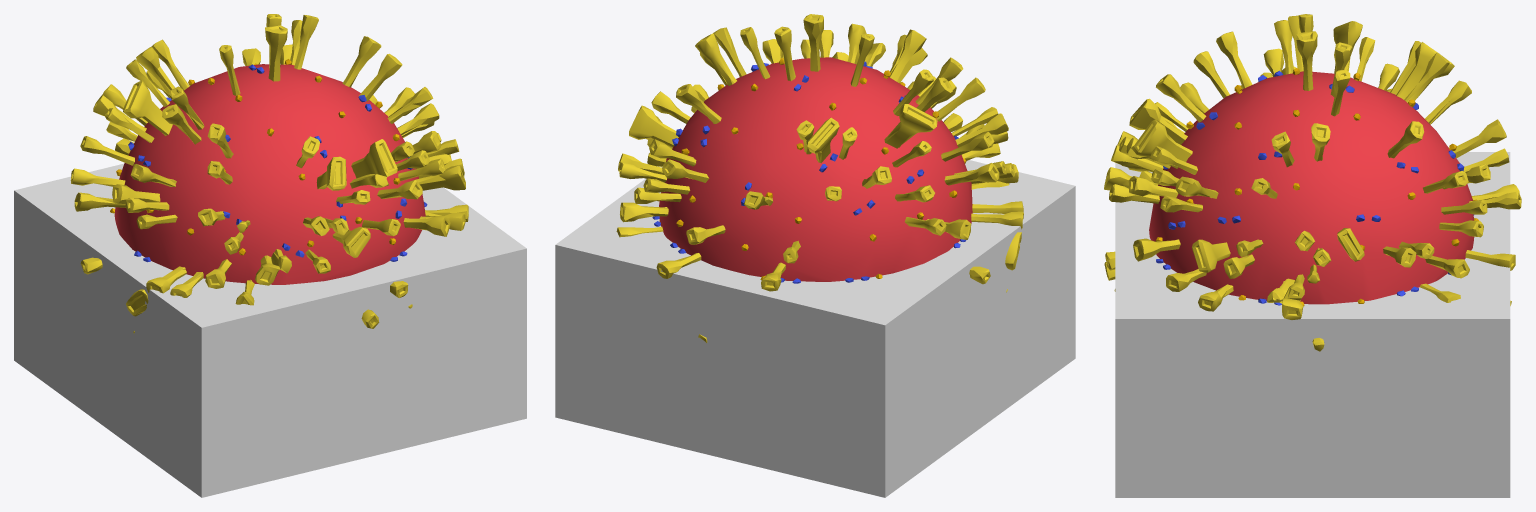
File: Joined-triangulated.fbx
The picture shows the model from 3 angles, left to right: view 1: azimuth 30°, elevation 25°; view 2: azimuth 150°, elevation 25°; view 3: azimuth 270°, elevation 25°; orthographic projection. The views are drawn at different scales.
Visible parts, largest first — view 1: Cube.002, Spike left.001, Spike right.001; view 2: Cube.002, Spike left.001, Spike right.001; view 3: Cube.002, Spike left.001.
Boxes of the visible parts, box(x1,y1,x2,y2) form: Cube.002: box(14, 163, 526, 497); Spike left.001: box(70, 14, 468, 305); Spike right.001: box(80, 257, 412, 333); Cube.002: box(555, 160, 1075, 497); Spike left.001: box(616, 14, 1023, 291); Spike right.001: box(698, 232, 1021, 342); Cube.002: box(1115, 152, 1510, 497); Spike left.001: box(1104, 14, 1521, 319).
Bounding box in the file's own units: 1200 × 1203 × 1181.
